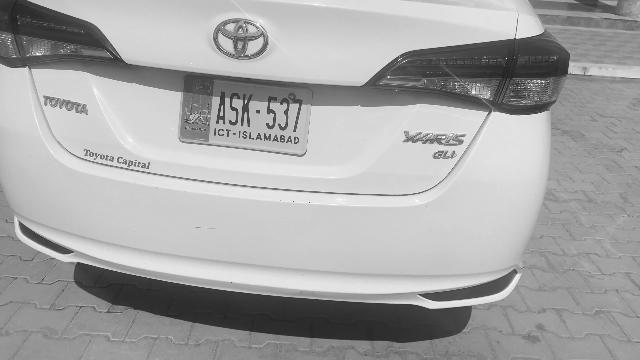Number: (214, 87, 306, 135)
